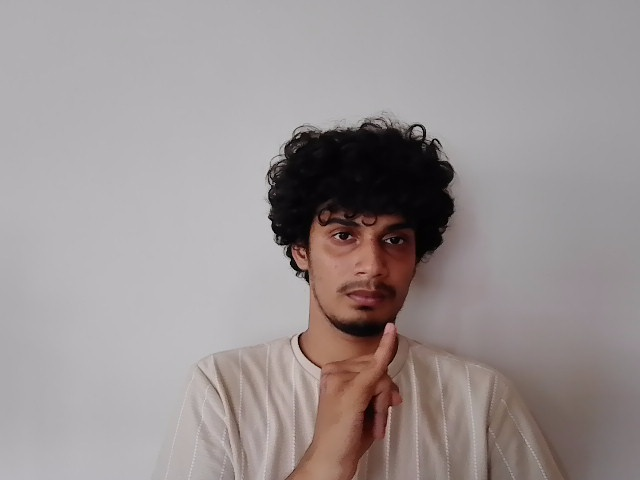bad: (315, 320, 405, 462)
